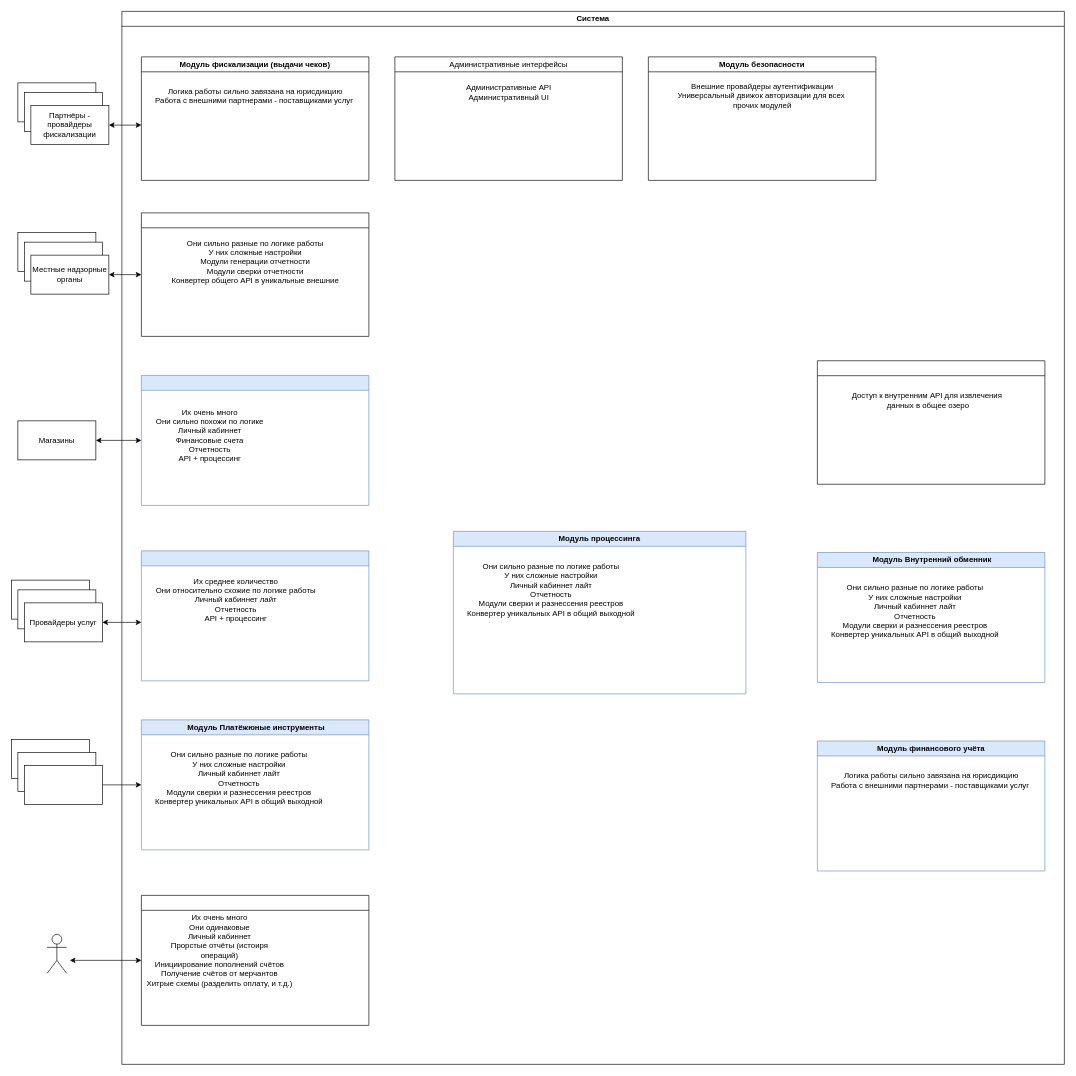
Image size: 1076x1076. Some labels were removed from this diagram. The shapes that lost their labels are listed below. From the top down, each one's box as (x1, y1, x2, y2) in pixels, then its label:
(141, 212, 369, 336): Модуль взаимодействия с надзорными органами
(141, 375, 369, 505): Модуль Мерчанты
(817, 360, 1045, 484): BI
(141, 550, 369, 681): Модуль Провайдеры
(24, 765, 102, 804): Платежные системы
(141, 895, 369, 1025): Модуль клиенты (физлица - плательщики)
